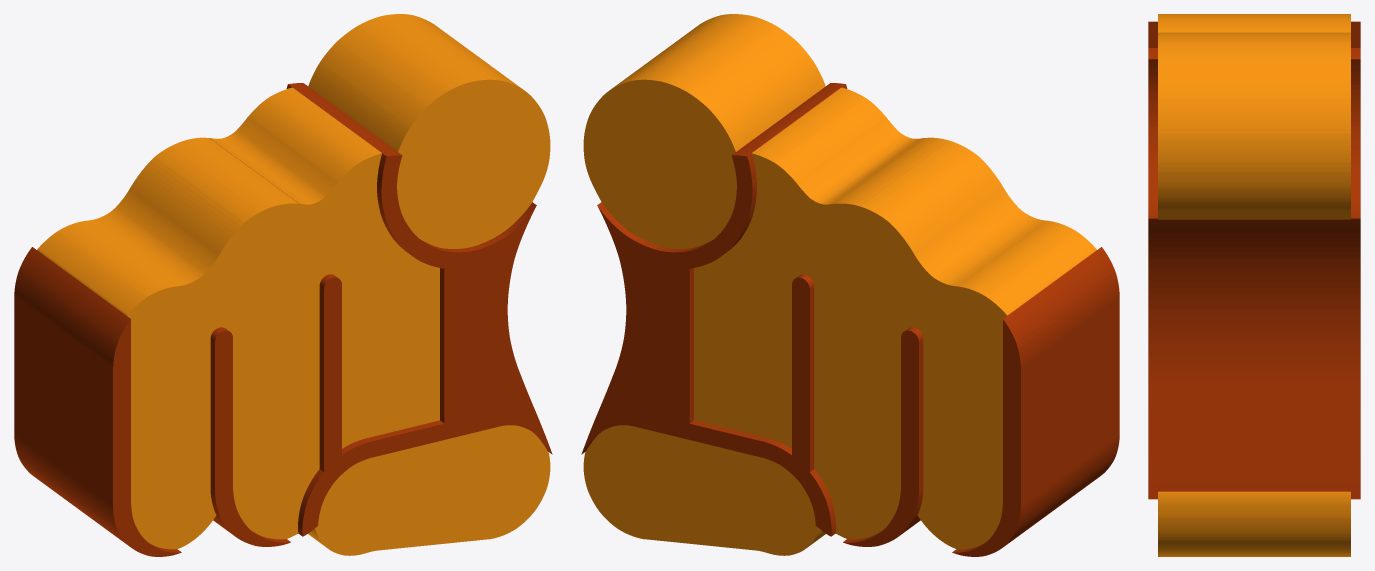
The model's file is U+1FAF5.obj.
3 renders of one model, left to right at view 1: azimuth 30°, elevation 25°; view 2: azimuth 150°, elevation 25°; view 3: azimuth 270°, elevation 25°, orthographic. The views are drawn at different scales.
Parts seen in each view (by area): view 1: U+1FAF5_layer00_obj00, U+1FAF5_layer01_obj00; view 2: U+1FAF5_layer00_obj00, U+1FAF5_layer01_obj00; view 3: U+1FAF5_layer01_obj00, U+1FAF5_layer00_obj00.
Part boxes in pixels (<box>): U+1FAF5_layer00_obj00: <box>37,14,550,555</box>; U+1FAF5_layer01_obj00: <box>14,83,552,556</box>; U+1FAF5_layer00_obj00: <box>583,14,1096,555</box>; U+1FAF5_layer01_obj00: <box>581,83,1119,556</box>; U+1FAF5_layer01_obj00: <box>1148,21,1360,499</box>; U+1FAF5_layer00_obj00: <box>1158,14,1350,556</box>.
Size of the model in its own units: 0.5678 by 0.5674 by 0.22.
